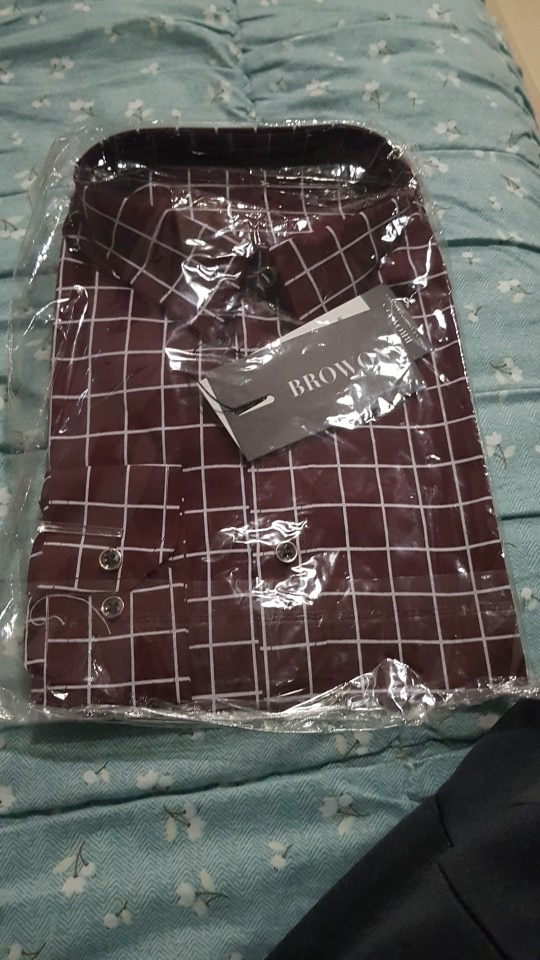shirts: (36, 124, 520, 713)
